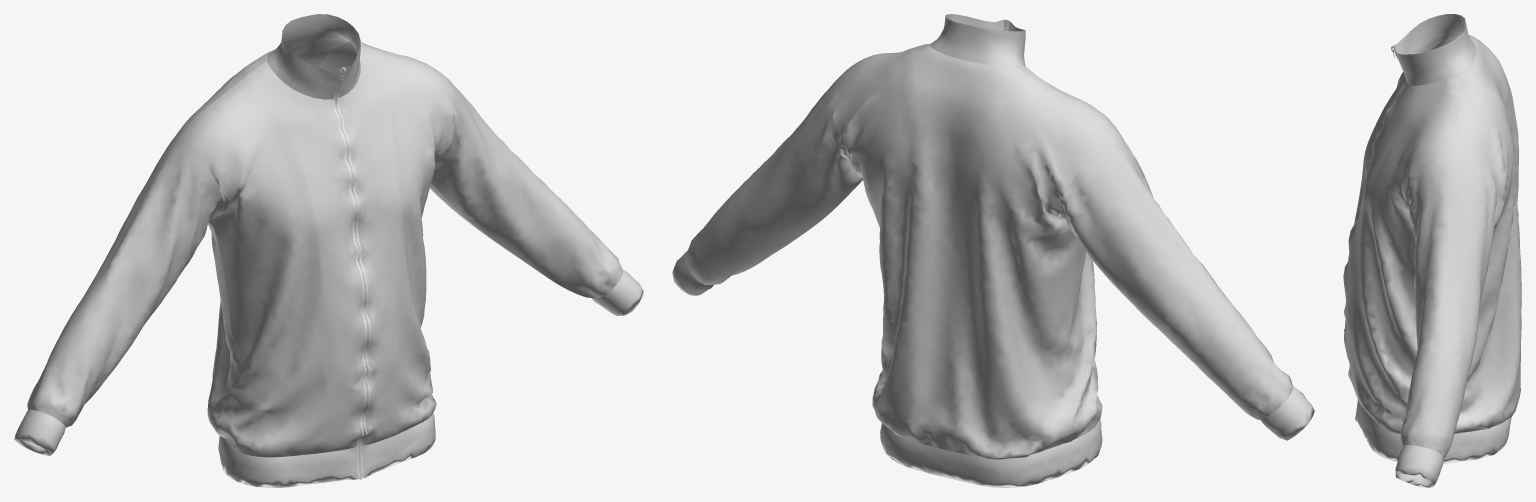
File: PULL OVER LONG SLEEVES.glb
The picture shows the model from 3 angles, left to right: view 1: azimuth 30°, elevation 25°; view 2: azimuth 150°, elevation 25°; view 3: azimuth 270°, elevation 25°; orthographic projection. The views are drawn at different scales.
Parts seen in each view (by area): view 1: Cloth; view 2: Cloth; view 3: Cloth.
Boxes of the visible parts, <box> form: Cloth: <box>14,14,643,487</box>; Cloth: <box>672,14,1314,487</box>; Cloth: <box>1343,14,1521,487</box>.
Size of the model in its own units: 1.14 by 0.7461 by 0.2999.
Materials: 10 (9 with a texture image).
